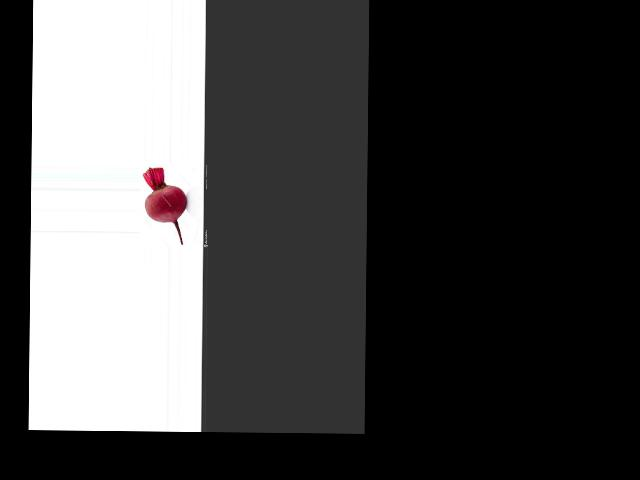beet: (142, 167, 187, 244)
